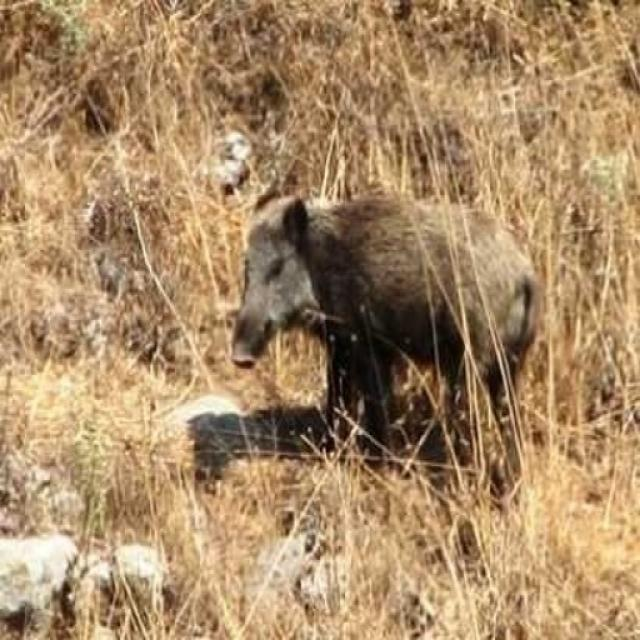pig: (194, 157, 576, 453)
